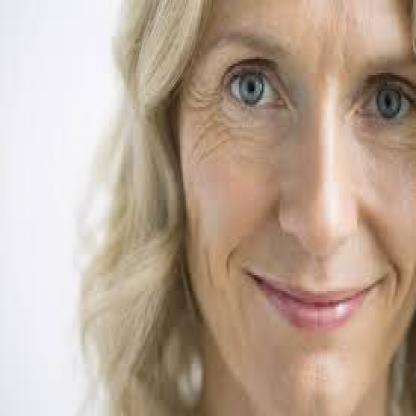darkspot: (46, 232, 96, 327), (168, 298, 215, 352), (47, 180, 94, 227), (119, 166, 153, 191), (216, 270, 232, 312), (180, 182, 200, 209), (360, 66, 389, 82), (166, 34, 180, 59), (219, 332, 227, 357), (28, 241, 40, 257), (5, 223, 15, 241), (183, 354, 200, 364), (183, 257, 191, 270), (165, 189, 172, 202), (194, 273, 199, 286), (172, 275, 177, 282)
